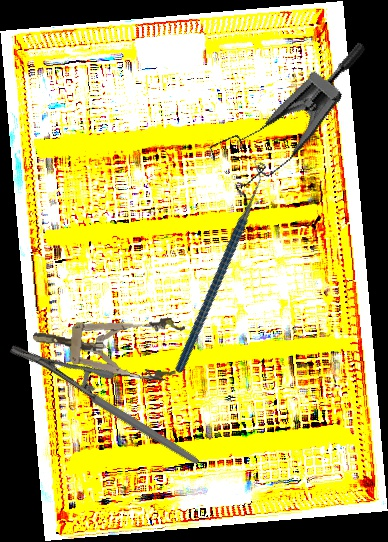Chopper: (114, 157, 322, 375)
Needle Holder: (7, 300, 200, 511)
Speculum: (195, 2, 370, 218), (30, 304, 186, 383)
